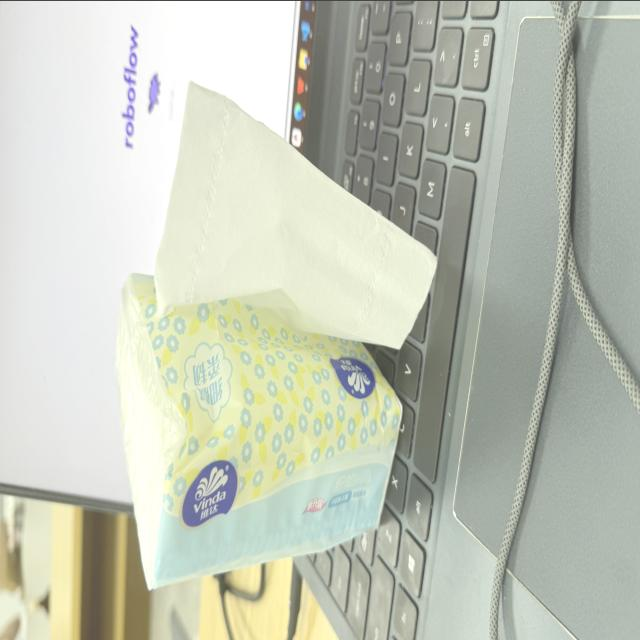tissue: (117, 274, 401, 586), (156, 82, 435, 347)
